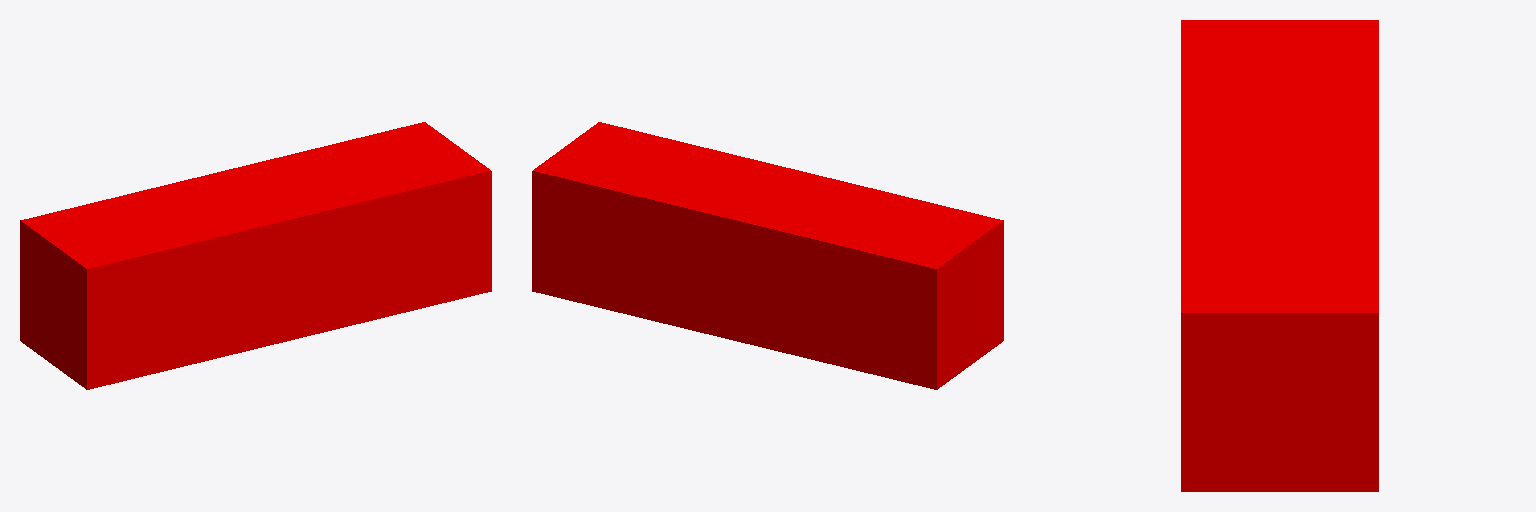
URDF robot description (wall13):
<?xml version="1.0"?>
<robot name="wall13">
	<link name="base">
	<inertial>
        	 <origin xyz="0 0 0" rpy="0 0 0"/>
        	 <mass value="3"/>
        	 <inertia ixx="0.000683333"  ixy="0"  ixz="0" iyy="0.000683333" iyz="0" izz="0.000683333" />
       </inertial>
		<visual>
			<origin xyz="0 0 0" rpy="0 0 0" />
			<geometry>
				<box size="0.07 0.02 0.02" />
			</geometry>
			<material>
				<color rgba="1 0 0 1" />
			</material>
		</visual>
		<collision>
			<origin xyz="0 0 0" rpy="0 0 0" />
			<material>
				<color rgba="1 0 0 1" />
			</material>
			<geometry>
				<box size="0.07 0.02 0.02" />
			</geometry>
			
		</collision>

	</link>
</robot>

--- What the picture shows (computed from the rendered views, not written in the file) ---
3 views of the same robot in one strip: view 1: azimuth 30°, elevation 25°; view 2: azimuth 150°, elevation 25°; view 3: azimuth 270°, elevation 25° (orthographic).
Robot: wall13 — 1 links, 0 joints (none); root link base; default pose: all joints at 0.
Links seen in each view (by area): view 1: base; view 2: base; view 3: base.
Link boxes in pixels (<box>): base: <box>20,122,491,389</box>; base: <box>532,122,1003,389</box>; base: <box>1181,20,1378,491</box>.
Bounding box of the posed robot: 0.07 × 0.02 × 0.02 m (x, y, z).
Geometry: primitives only (box / cylinder / sphere), no mesh files.
